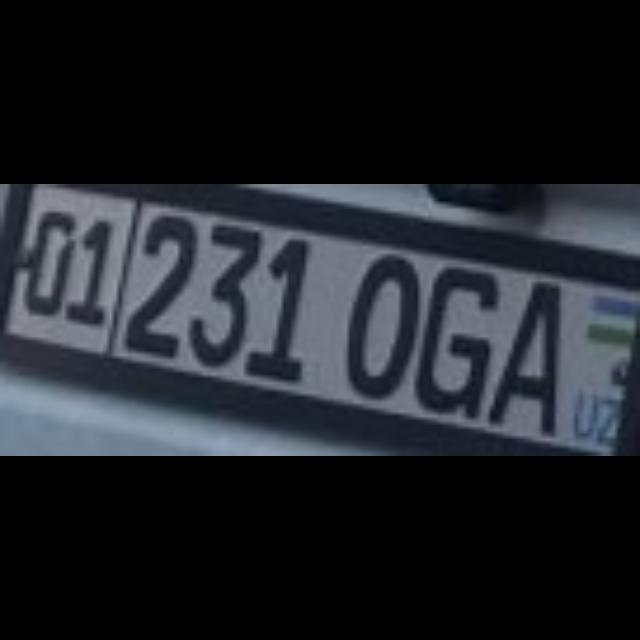0: (14, 203, 66, 307)
1: (240, 231, 306, 377), (61, 212, 103, 320)
2: (118, 207, 188, 353)
3: (184, 217, 258, 363)
A: (485, 274, 551, 428)
G: (410, 260, 494, 414)
O: (338, 245, 414, 391)
